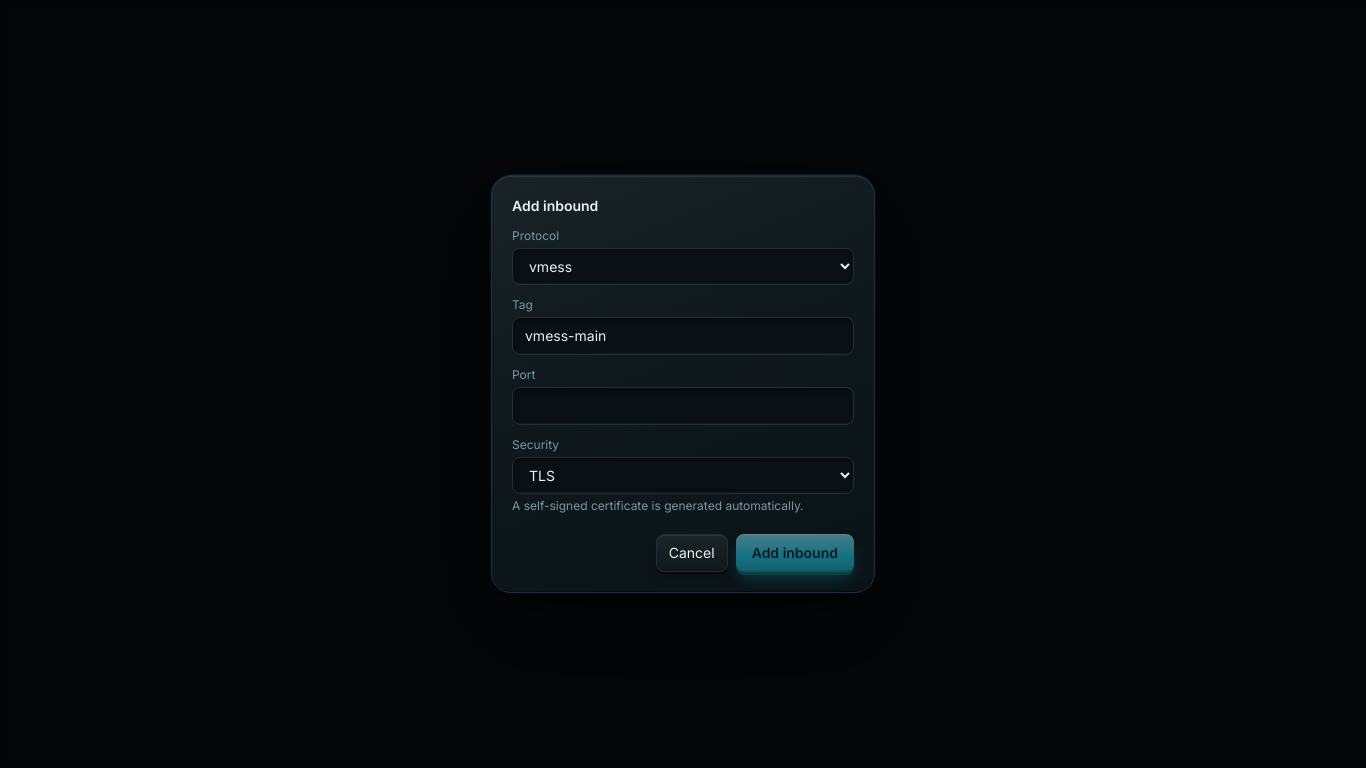
Test case: QuickAddInboundModal › switching to a protocol updates the auto-filled tag and security together
This screenshot has width=1366, height=768.
Step 1. Select "shadowsocks" in the dropdown labelled "Protocol" → (683, 266), box [512,248,854,285]
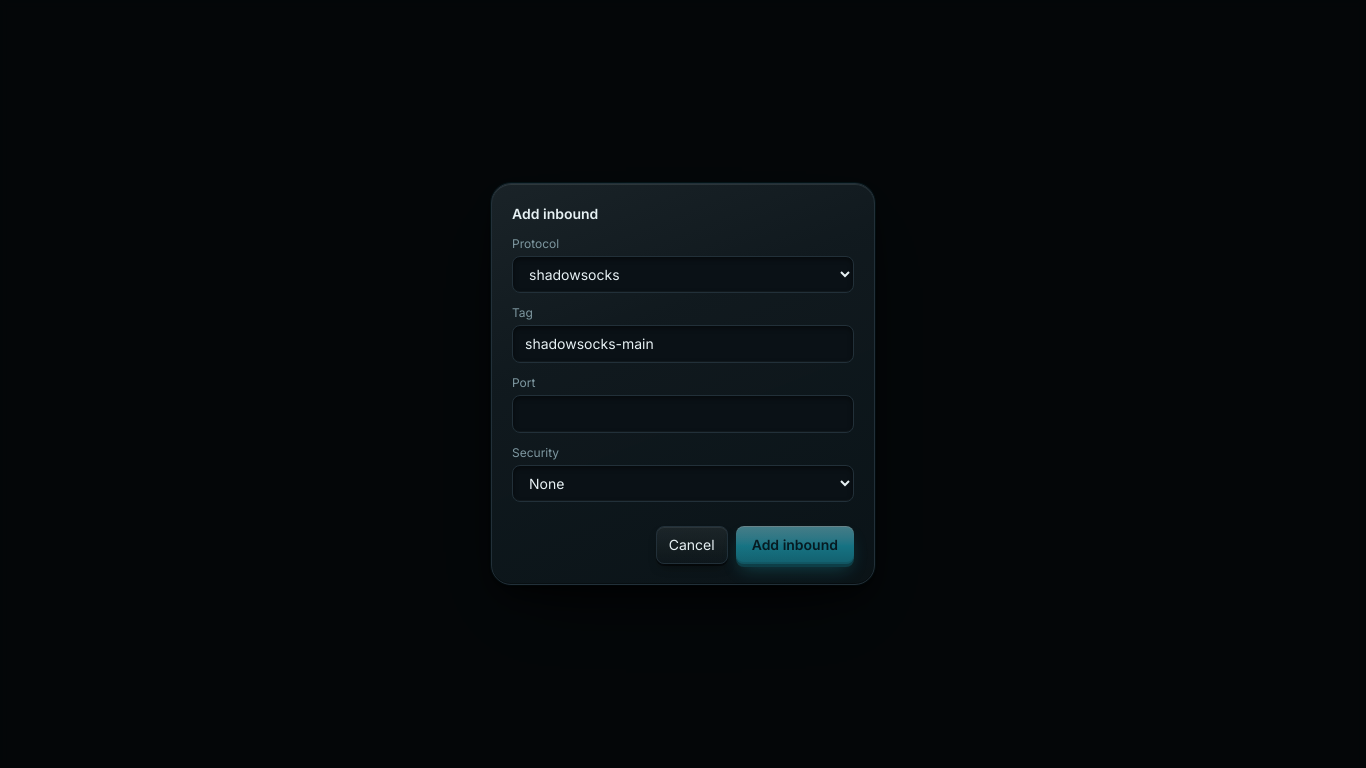
expect the field labelled "Tag" holds "shadowsocks-main": met, box [512,325,854,363]
expect the dropdown labelled "Security" shows "None": met, box [512,465,854,502]
